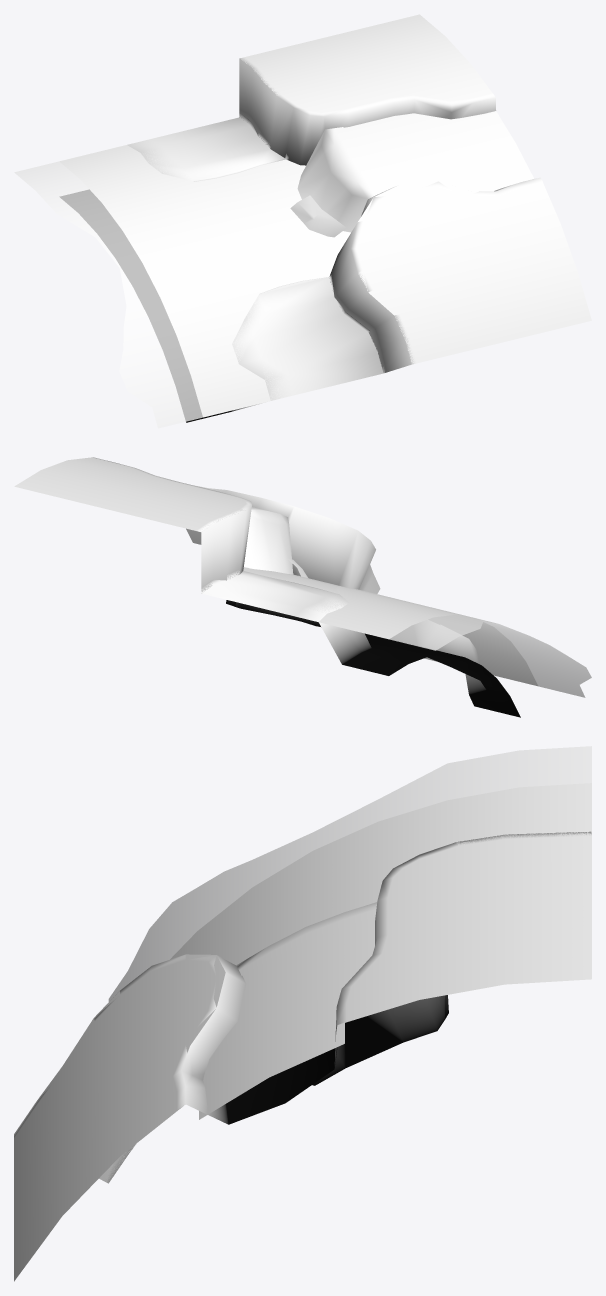
The model's file is grd_Mw_R_1.dae.
3 renders of one model, top to bottom at view 1: azimuth 30°, elevation 25°; view 2: azimuth 150°, elevation 25°; view 3: azimuth 270°, elevation 25°, orthographic. The views are drawn at different scales.
Parts seen in each view (by area): view 1: grd_Mw_R_1; view 2: grd_Mw_R_1; view 3: grd_Mw_R_1.
Boxes of the visible parts, x1,y1,x2,y2 form: grd_Mw_R_1: (14, 14, 591, 428); grd_Mw_R_1: (14, 457, 591, 717); grd_Mw_R_1: (14, 746, 591, 1281).
Bounding box in the file's own units: 604 × 308 × 423.
10 materials, 1 textured.
